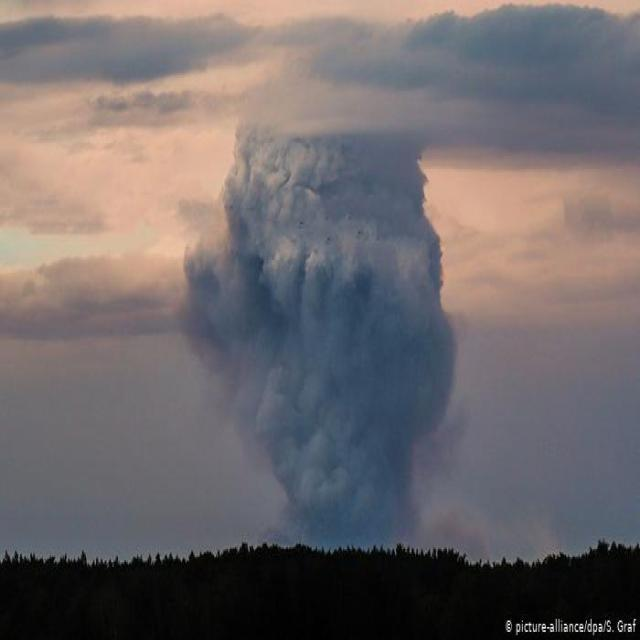Smoke: (164, 102, 511, 570)
